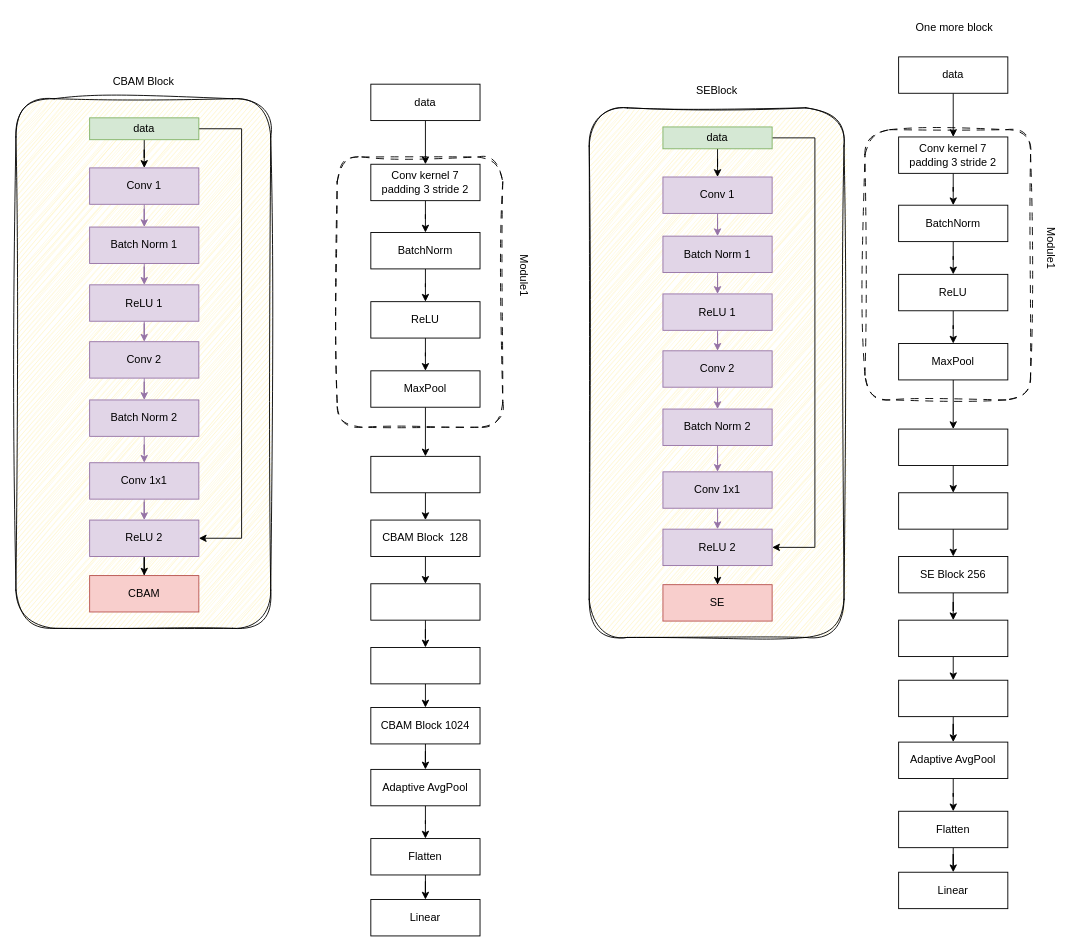
Some shapes in this 1079 by 952 pixel diagram are drawn without their labels. Each missing label, with the box of its shape:
CBAM Block 256: (370, 583, 480, 620)
CBAM Block 512: (370, 647, 480, 684)
CBAM Block 64: (370, 455, 480, 493)
SE Block 1024: (898, 679, 1008, 717)
SE Block 128: (898, 492, 1008, 529)
SE Block 512: (898, 619, 1008, 657)
SE Block 64: (898, 428, 1008, 465)
